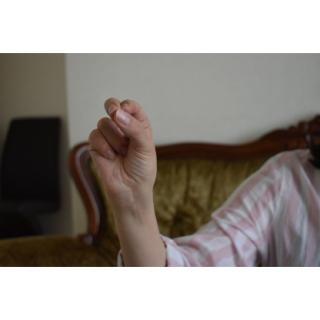QAAF: (82, 92, 158, 204)
